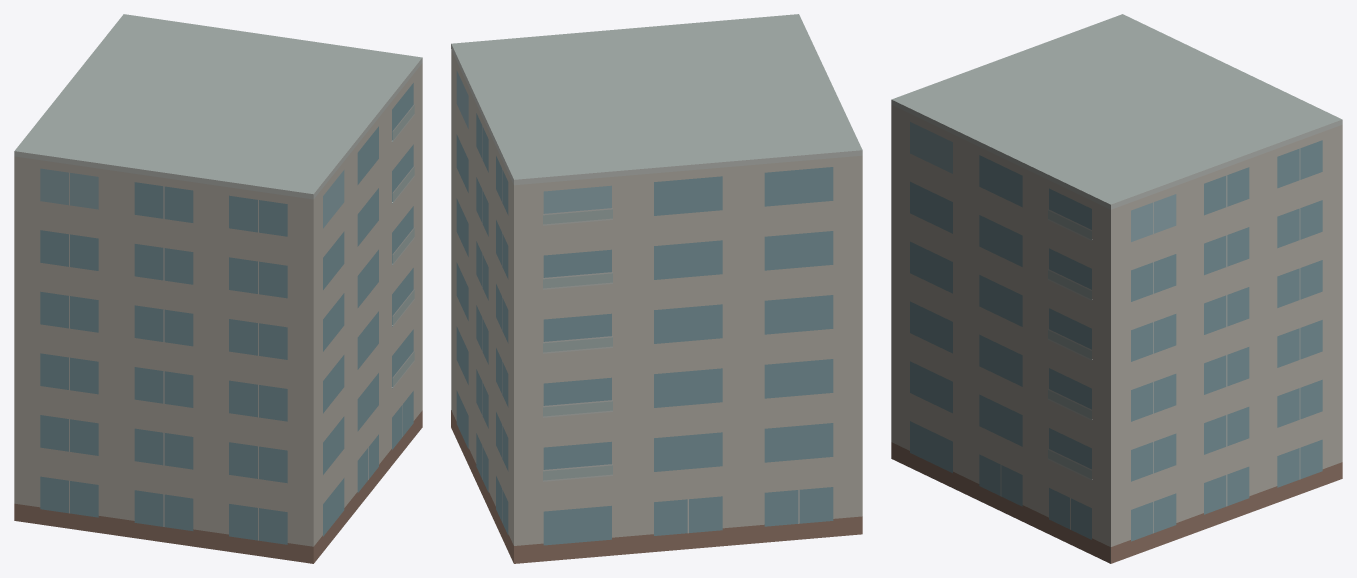
The model's file is survey-upis-32731030.glb.
3 renders of one model, left to right at view 1: azimuth 30°, elevation 25°; view 2: azimuth 150°, elevation 25°; view 3: azimuth 270°, elevation 25°, orthographic. The views are drawn at different scales.
Visible parts, largest first — view 1: survey-upis-32731030.tmp; view 2: survey-upis-32731030.tmp; view 3: survey-upis-32731030.tmp.
Part boxes in pixels (<box>): survey-upis-32731030.tmp: <box>14,14,422,563</box>; survey-upis-32731030.tmp: <box>451,14,862,563</box>; survey-upis-32731030.tmp: <box>891,14,1342,563</box>.
Size of the model in its own units: 19.47 by 17.1 by 19.47.
